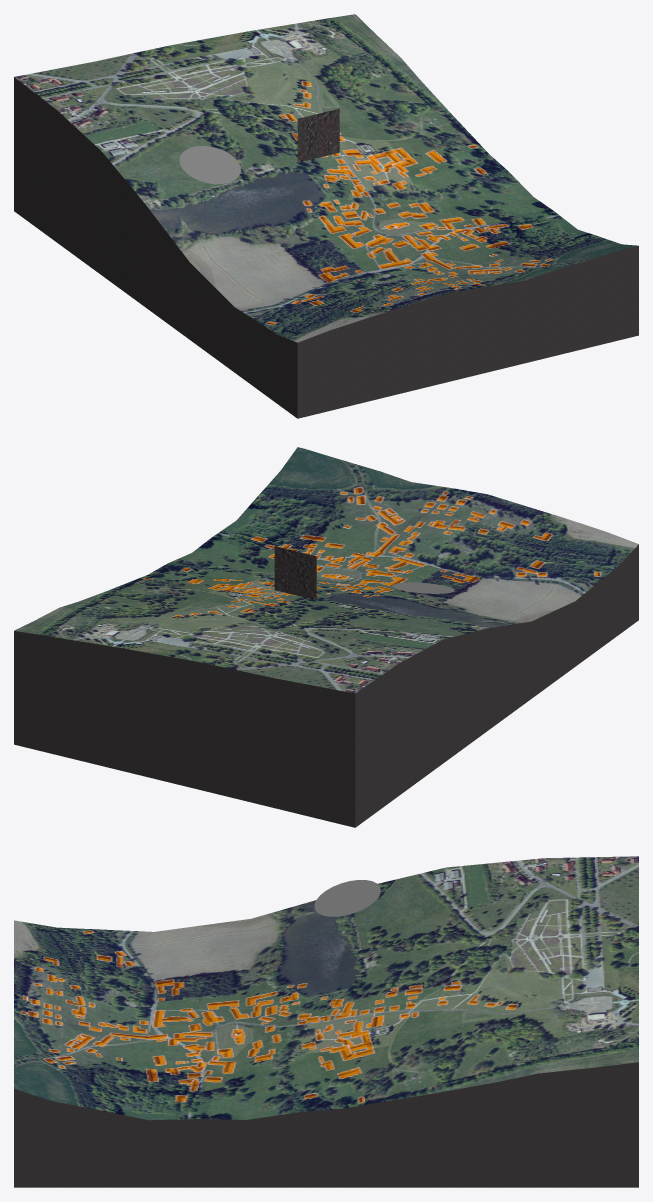
File: lidice_model_mitrechteck.glb
3 views of the same model, one above another, from view 1: azimuth 30°, elevation 25°; view 2: azimuth 150°, elevation 25°; view 3: azimuth 270°, elevation 25° (orthographic). The views are drawn at different scales.
Parts seen in each view (by area): view 1: object 1, 1, 2; view 2: object 1, 1, 2; view 3: object 1, 2.
Boxes of the visible parts, x1=… form: object 1: x1=14, y1=14, x2=638, y2=418; 1: x1=297, y1=108, x2=339, y2=162; 2: x1=179, y1=146, x2=240, y2=184; object 1: x1=14, y1=447, x2=638, y2=827; 1: x1=274, y1=546, x2=316, y2=600; 2: x1=392, y1=582, x2=454, y2=593; object 1: x1=14, y1=856, x2=638, y2=1187; 2: x1=314, y1=880, x2=380, y2=916.
Size of the model in its own units: 0.4865 by 0.1942 by 0.7003.
3 materials, 2 textured.
